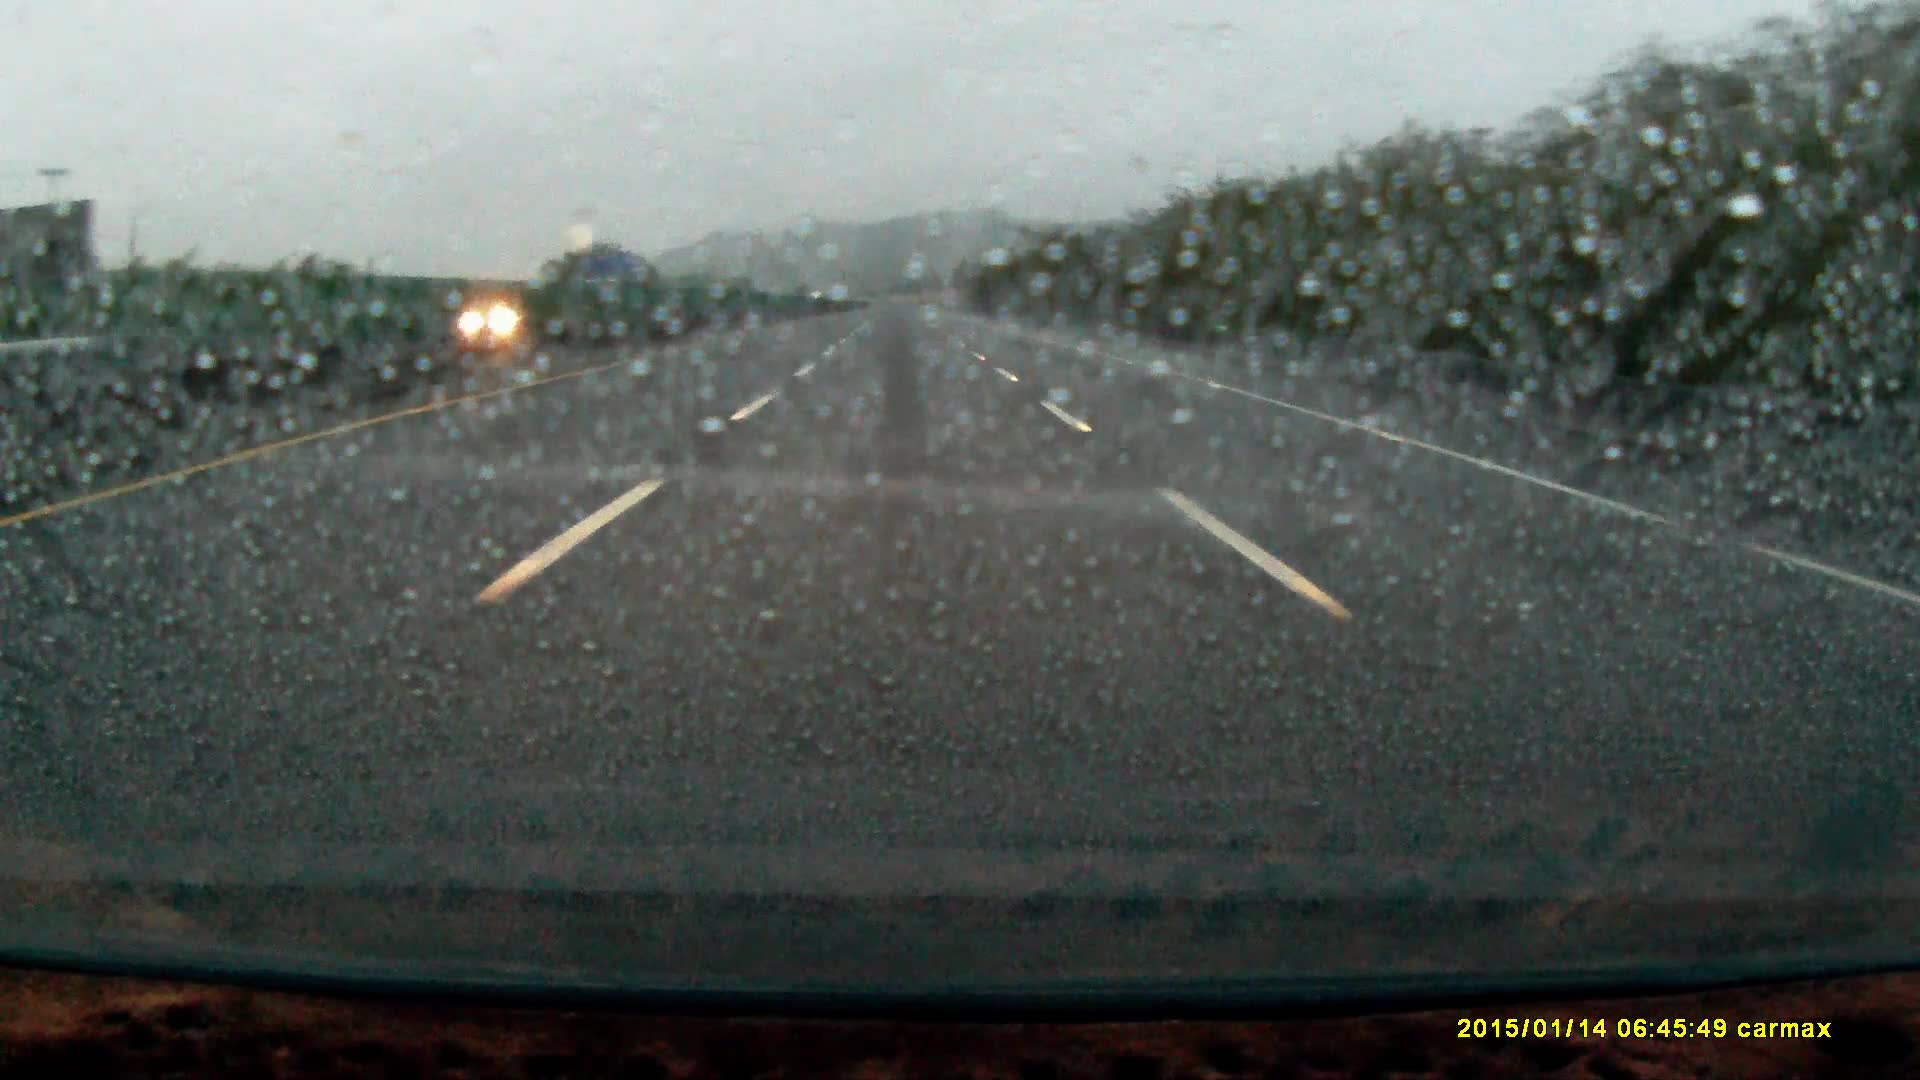vehicle: (467, 305, 529, 332)
